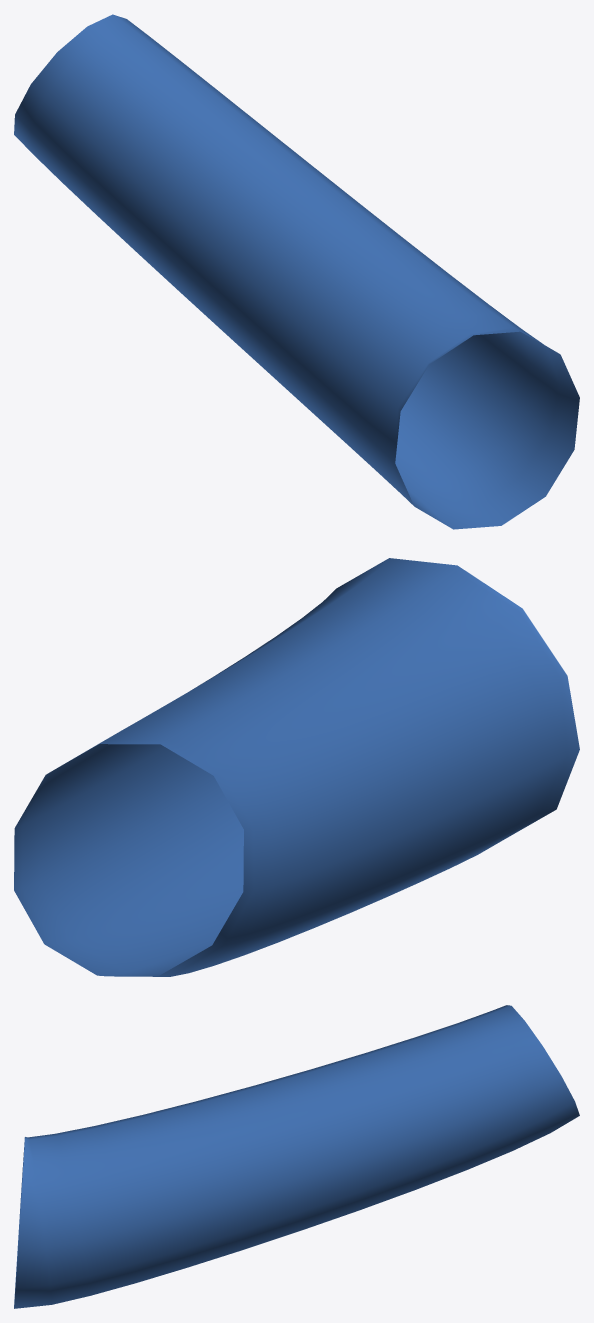
The picture shows the model from 3 angles, top to bottom: view 1: azimuth 30°, elevation 25°; view 2: azimuth 150°, elevation 25°; view 3: azimuth 270°, elevation 25°; orthographic projection. The views are drawn at different scales.
Visible parts, largest first — view 1: 右侧髂总静脉; view 2: 右侧髂总静脉; view 3: 右侧髂总静脉.
Boxes of the visible parts, box(x1,y1,x2,y2) form: 右侧髂总静脉: box(14, 14, 579, 529); 右侧髂总静脉: box(14, 558, 579, 976); 右侧髂总静脉: box(14, 1005, 579, 1308).
Size of the model in its own units: 0.0352 by 0.0399 by 0.0805.
